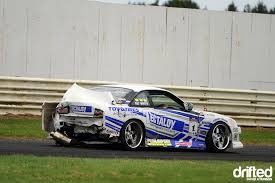Smashed: (39, 89, 144, 144)
